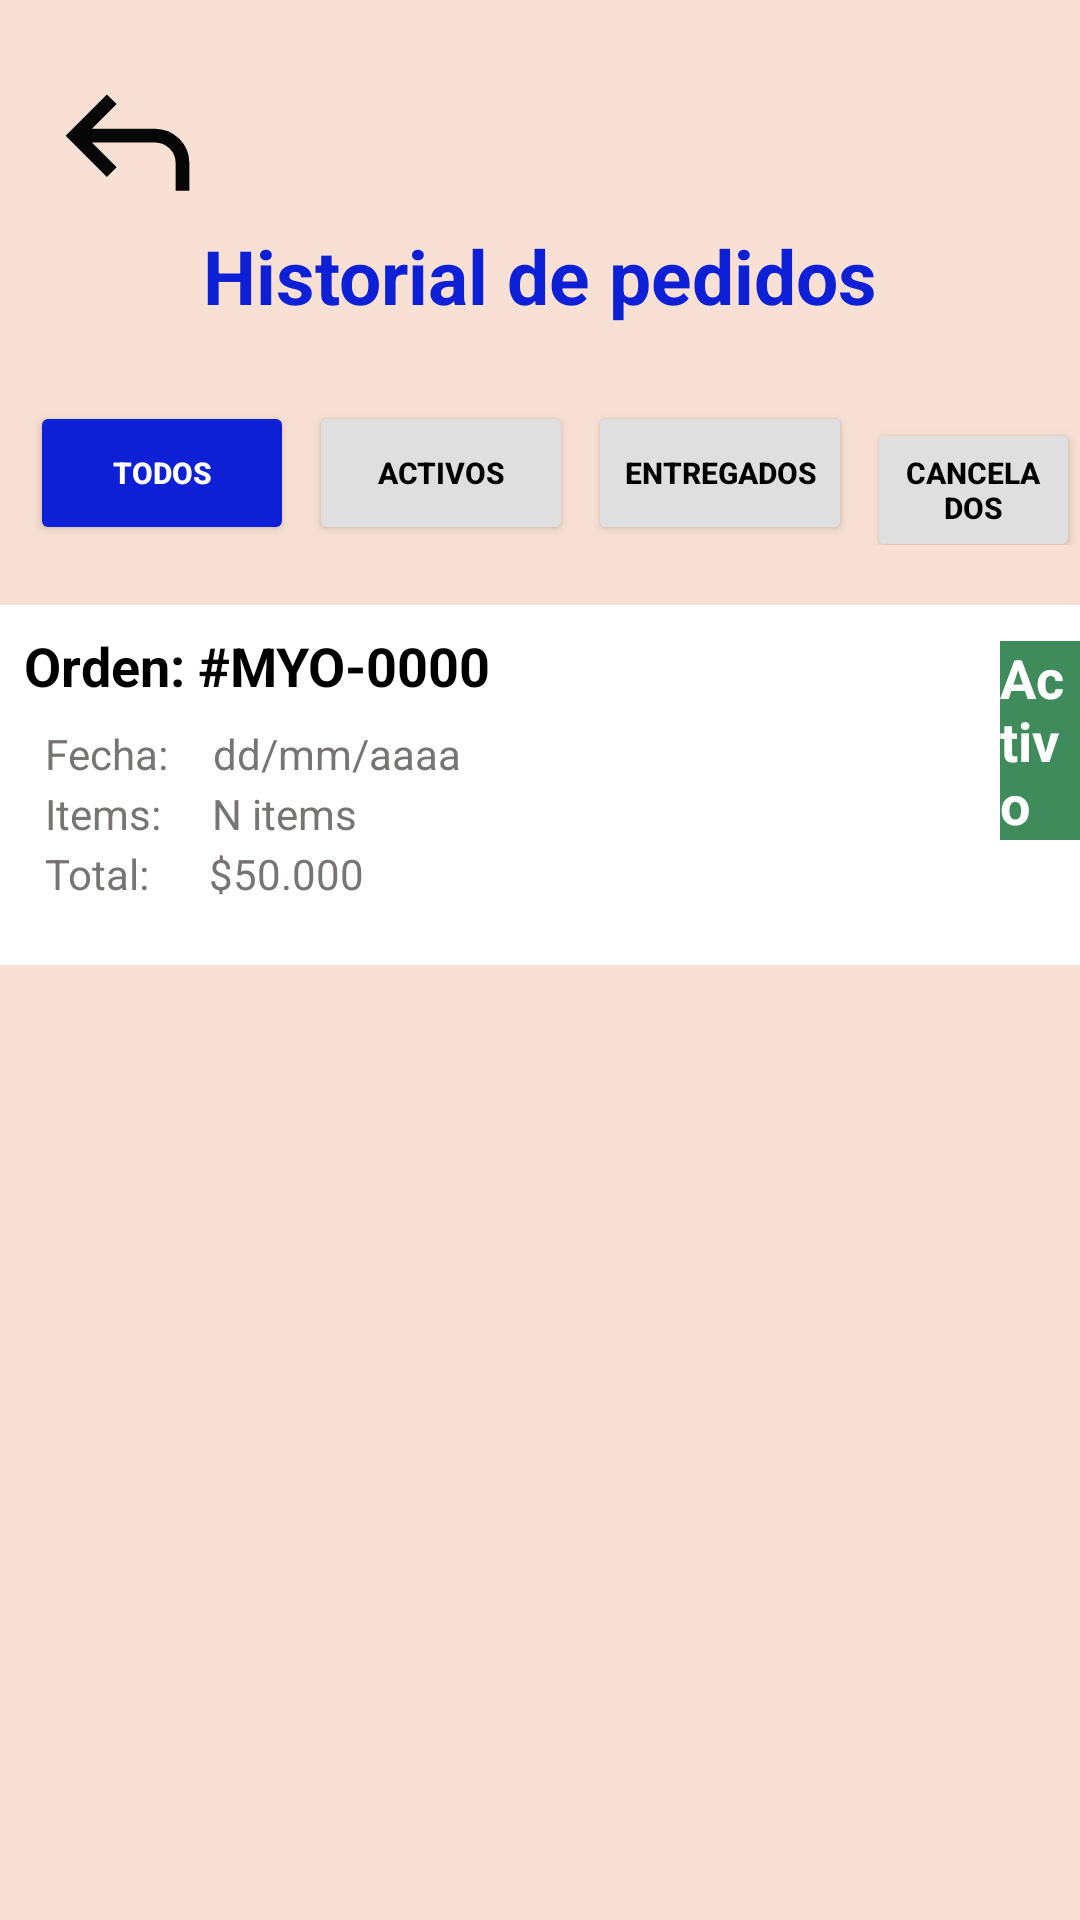

Locate icon controls on the screen. Image size 1080w x 1920h, boxes as (x1, y1, x2, y2).
regresar: (65, 94, 190, 191)
